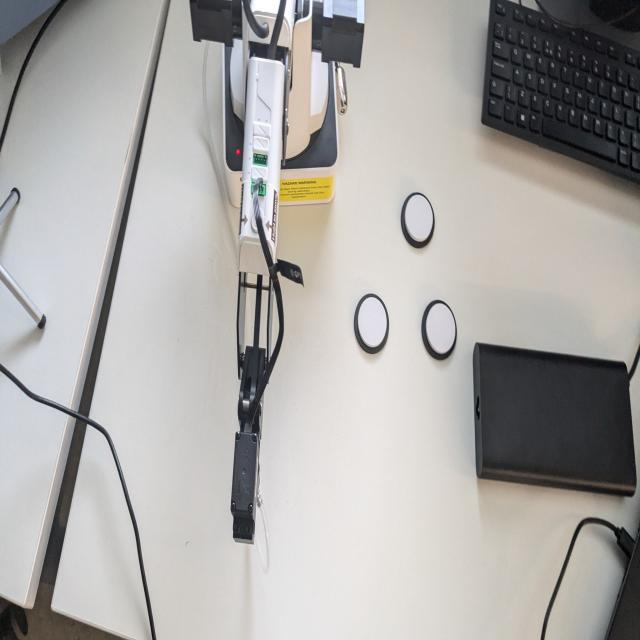Robot-end-effector-HF8z: (229, 427, 264, 553)
